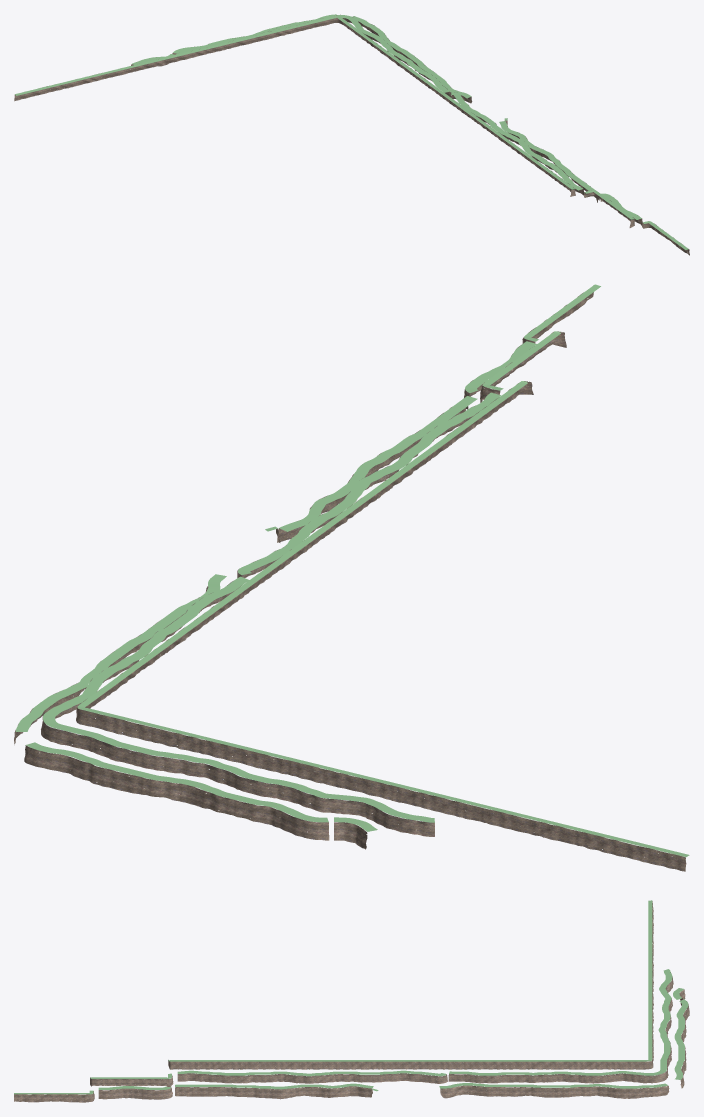
File: CliffWall_palace_mesa_e.glb
3 renders of one model, top to bottom at view 1: azimuth 30°, elevation 25°; view 2: azimuth 150°, elevation 25°; view 3: azimuth 270°, elevation 25°, orthographic. The views are drawn at different scales.
Parts seen in each view (by area): view 1: CliffWall_palace_mesa_e-rock0, CliffWall_palace_mesa_e-lip0, CliffWall_palace_mesa_e-lip3, CliffWall_palace_mesa_e-lip4, CliffWall_palace_mesa_e-lip7, CliffWall_palace_mesa_e-lip9; view 2: CliffWall_palace_mesa_e-rock0, CliffWall_palace_mesa_e-rock3, CliffWall_palace_mesa_e-lip0, CliffWall_palace_mesa_e-rock6, CliffWall_palace_mesa_e-lip3, CliffWall_palace_mesa_e-lip4, CliffWall_palace_mesa_e-lip7, CliffWall_palace_mesa_e-lip9, CliffWall_palace_mesa_e-lip6; view 3: CliffWall_palace_mesa_e-rock0, CliffWall_palace_mesa_e-rock7, CliffWall_palace_mesa_e-rock4, CliffWall_palace_mesa_e-rock3, CliffWall_palace_mesa_e-rock9, CliffWall_palace_mesa_e-lip0, CliffWall_palace_mesa_e-lip3, CliffWall_palace_mesa_e-lip4, CliffWall_palace_mesa_e-rock10, CliffWall_palace_mesa_e-lip7, CliffWall_palace_mesa_e-rock2, CliffWall_palace_mesa_e-lip9 (+2 smaller).
Boxes of the visible parts, box(x1,y1,x2,y2) form: CliffWall_palace_mesa_e-rock0: box(14, 15, 575, 196); CliffWall_palace_mesa_e-lip0: box(15, 16, 574, 189); CliffWall_palace_mesa_e-lip3: box(132, 15, 449, 92); CliffWall_palace_mesa_e-lip4: box(451, 92, 582, 190); CliffWall_palace_mesa_e-lip7: box(353, 16, 471, 98); CliffWall_palace_mesa_e-lip9: box(499, 121, 594, 190); CliffWall_palace_mesa_e-rock0: box(76, 381, 686, 871); CliffWall_palace_mesa_e-rock3: box(41, 581, 434, 836); CliffWall_palace_mesa_e-lip0: box(77, 381, 689, 856); CliffWall_palace_mesa_e-rock6: box(24, 745, 329, 840); CliffWall_palace_mesa_e-lip3: box(43, 576, 434, 822); CliffWall_palace_mesa_e-lip4: box(238, 392, 501, 575); CliffWall_palace_mesa_e-lip7: box(15, 574, 226, 731); CliffWall_palace_mesa_e-lip9: box(279, 396, 477, 531); CliffWall_palace_mesa_e-lip6: box(26, 742, 328, 822); CliffWall_palace_mesa_e-rock0: box(168, 901, 653, 1069); CliffWall_palace_mesa_e-rock7: box(440, 1085, 669, 1098); CliffWall_palace_mesa_e-rock4: box(177, 1073, 447, 1083); CliffWall_palace_mesa_e-rock3: box(448, 972, 673, 1083); CliffWall_palace_mesa_e-rock9: box(175, 1086, 371, 1099); CliffWall_palace_mesa_e-lip0: box(168, 900, 652, 1061); CliffWall_palace_mesa_e-lip3: box(449, 969, 672, 1075); CliffWall_palace_mesa_e-lip4: box(177, 1070, 446, 1076); CliffWall_palace_mesa_e-rock10: box(98, 1087, 172, 1099); CliffWall_palace_mesa_e-lip7: box(439, 1083, 668, 1088); CliffWall_palace_mesa_e-rock2: box(14, 1091, 94, 1102); CliffWall_palace_mesa_e-lip9: box(175, 1083, 373, 1089).
Bounding box in the file's own units: 2399 × 137 × 3794.
4 materials, 1 textured.
